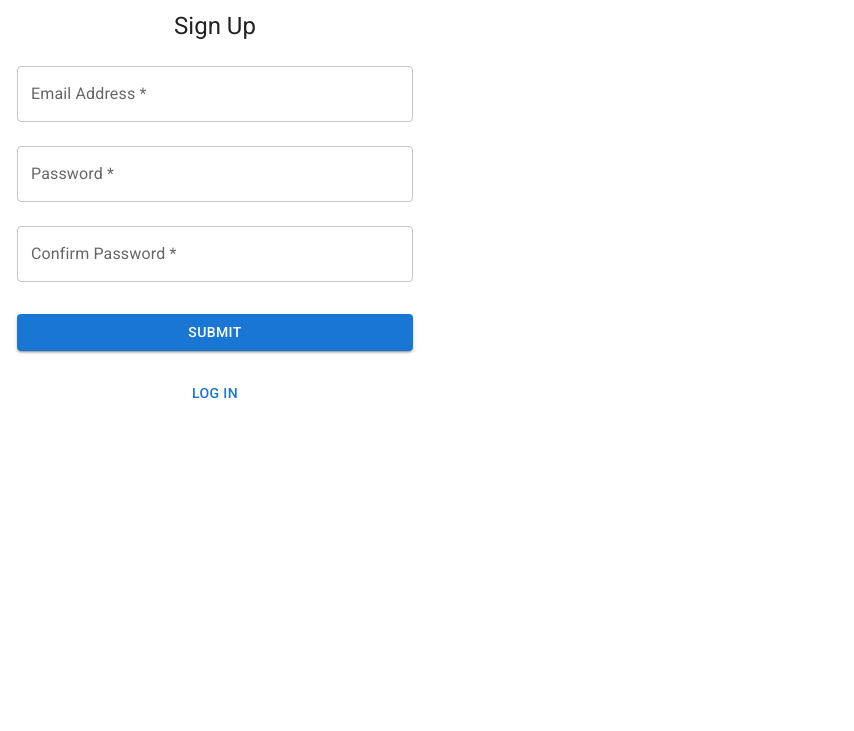
it: signup-page › sign up page - sign up successfully
This screenshot has width=854, height=731.
Type "test@yopmail.com" into the field labelled "Email Address *". click: (215, 94)
box: [17,66,413,122]
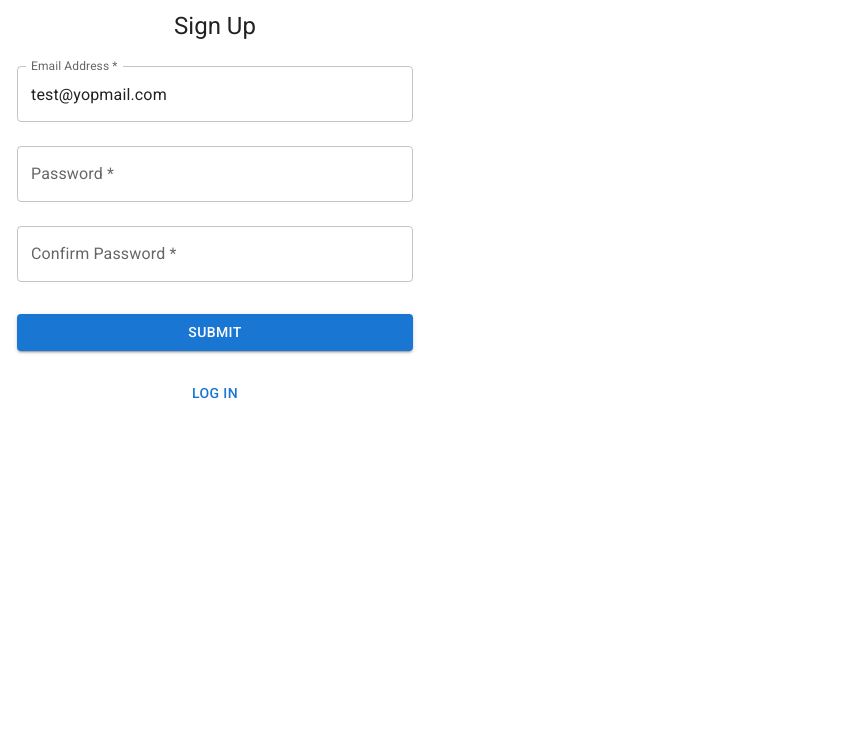
Type "123456" into the password field labelled "Password *". click: (215, 174)
box: [17,146,413,202]
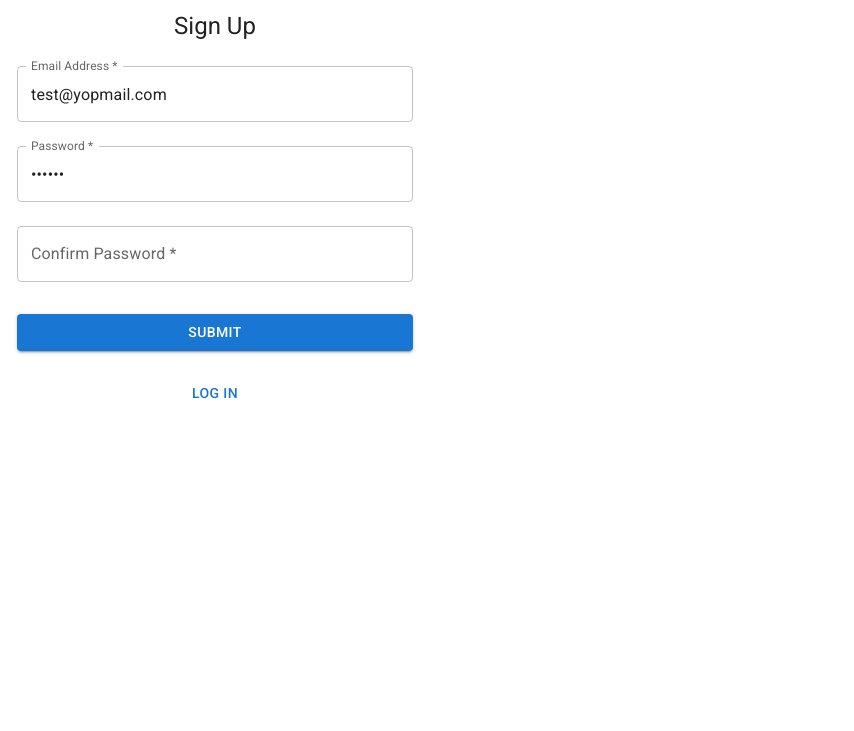
Type "123456" into the password field labelled "Confirm Password *". click: (215, 254)
box: [17,226,413,282]
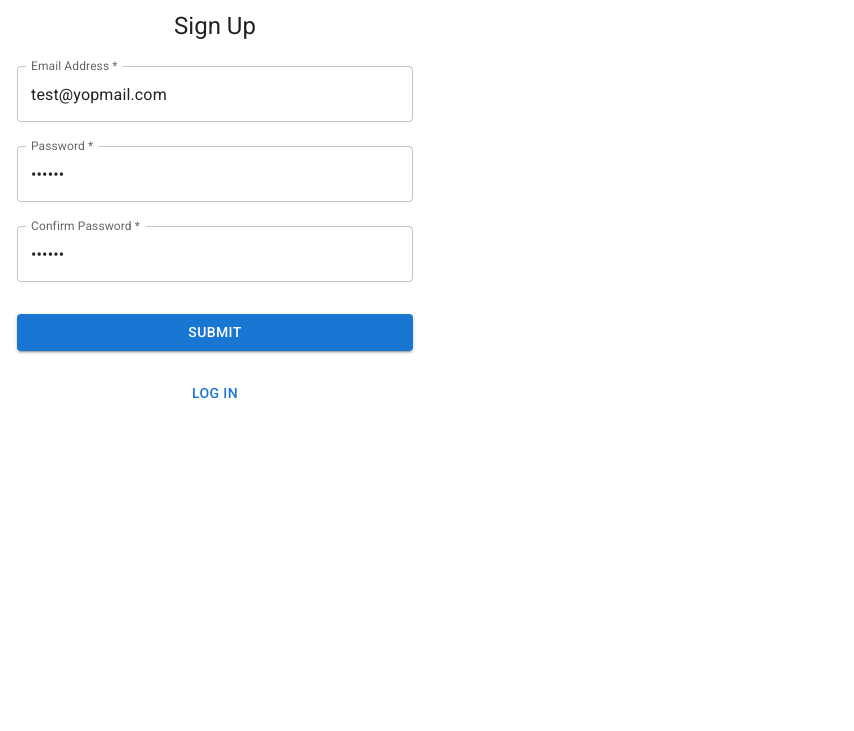
Click the button "Submit". click: click(215, 332)
box: [17,314,413,350]
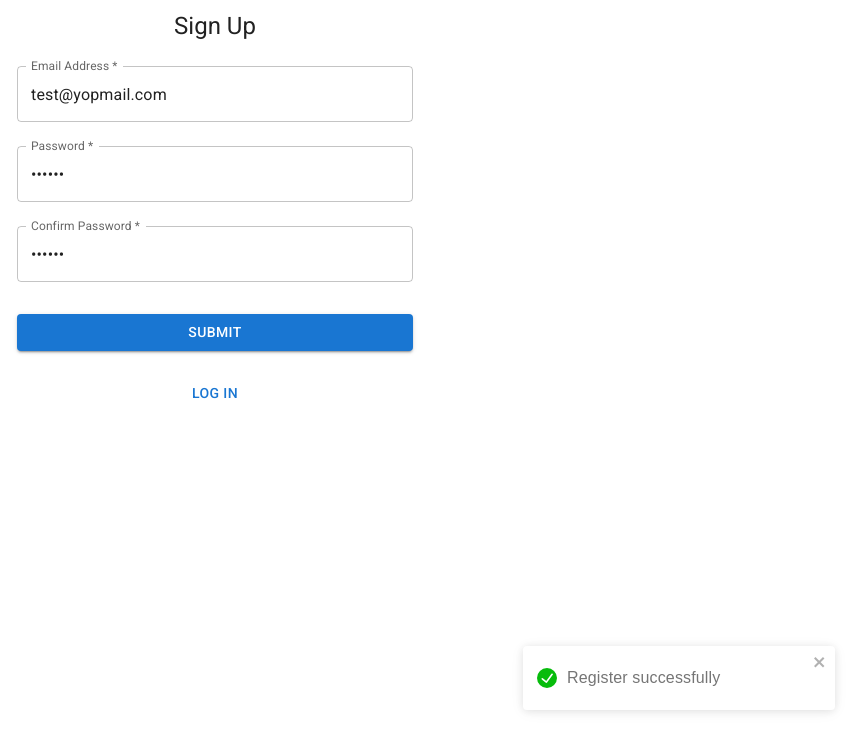
expect the text "Register successfully" is shown: met, box [567,669,720,686]
